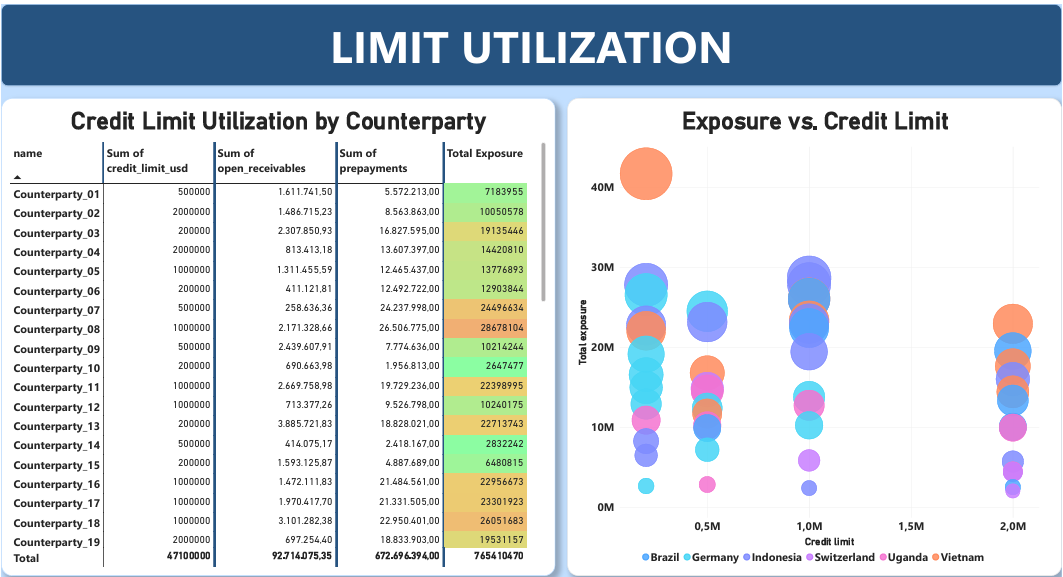

What the dashboard file says about the page in this screenshot:
{"tool":"powerbi","page":{"name":"Limit Utilization","canvas":[1920,1080],"ordinal":1},"visuals":[{"type":"textbox","box":[0,0,1920,147.5],"z":0},{"type":"pivotTable","title":"Credit Limit Utilization by Counterparty","fields":{"Rows":["limit_utilization.name"],"Values":["Sum(limit_utilization.credit_limit_usd)","Sum(limit_utilization.open_receivables)","Sum(limit_utilization.prepayments)","Alerts.Total Exposure"]},"box":[0,170,1002.5,865],"z":1000},{"type":"scatterChart","title":"Exposure vs. Credit Limit","fields":{"Category":["limit_utilization.name"],"Series":["limit_utilization.country"],"Size":["Sum(limit_utilization.total_exposure)"],"X":["Sum(limit_utilization.credit_limit_usd)"],"Y":["Sum(limit_utilization.total_exposure)"]},"box":[1025,170,895,865],"z":2000}]}

Visuals, with their boxes on the page's 1920x1080 design canvas (x1, y1, x2, y2). These are canvas units, not pixel positions in the 1063x577 screenshot, which may show the page scaled, cropped or inside an application window:
textbox: 0, 0, 1920, 148
"Credit Limit Utilization by Counterparty" pivotTable: 0, 170, 1002, 1035
"Exposure vs. Credit Limit" scatterChart: 1025, 170, 1920, 1035
